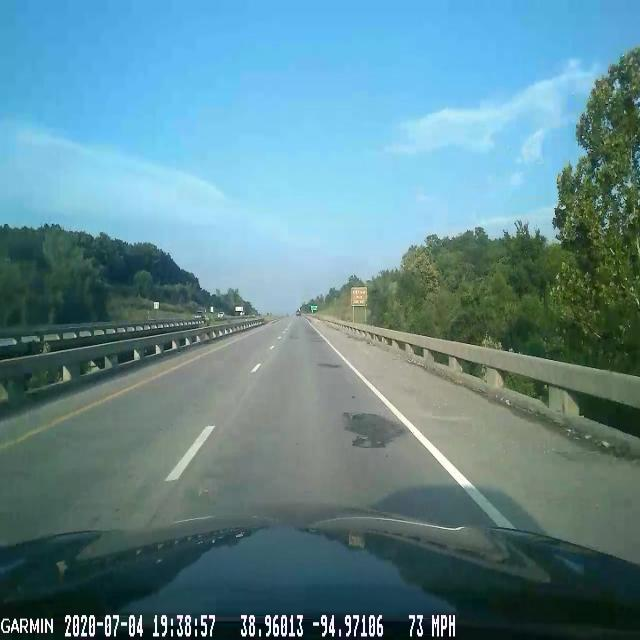Pothole: (338, 401, 408, 459)
